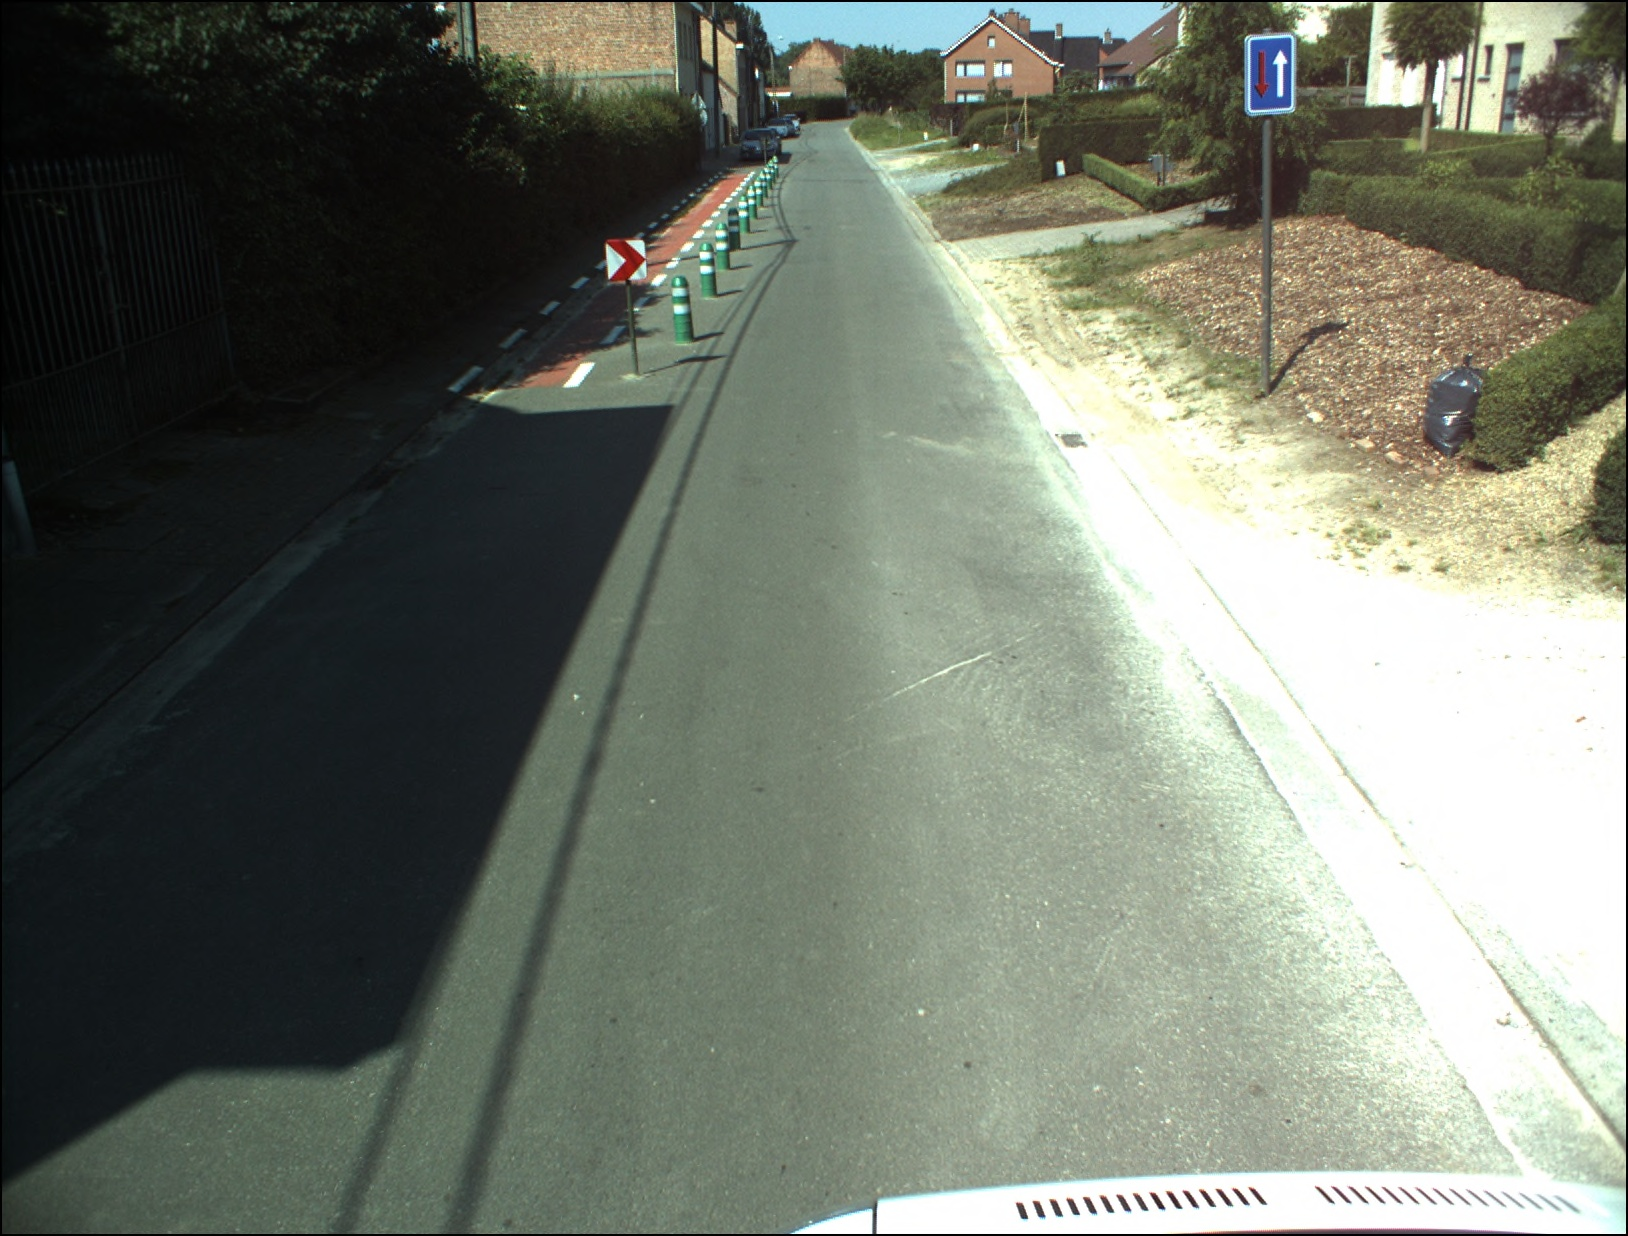roadnarrow1: (1248, 35, 1297, 112)
